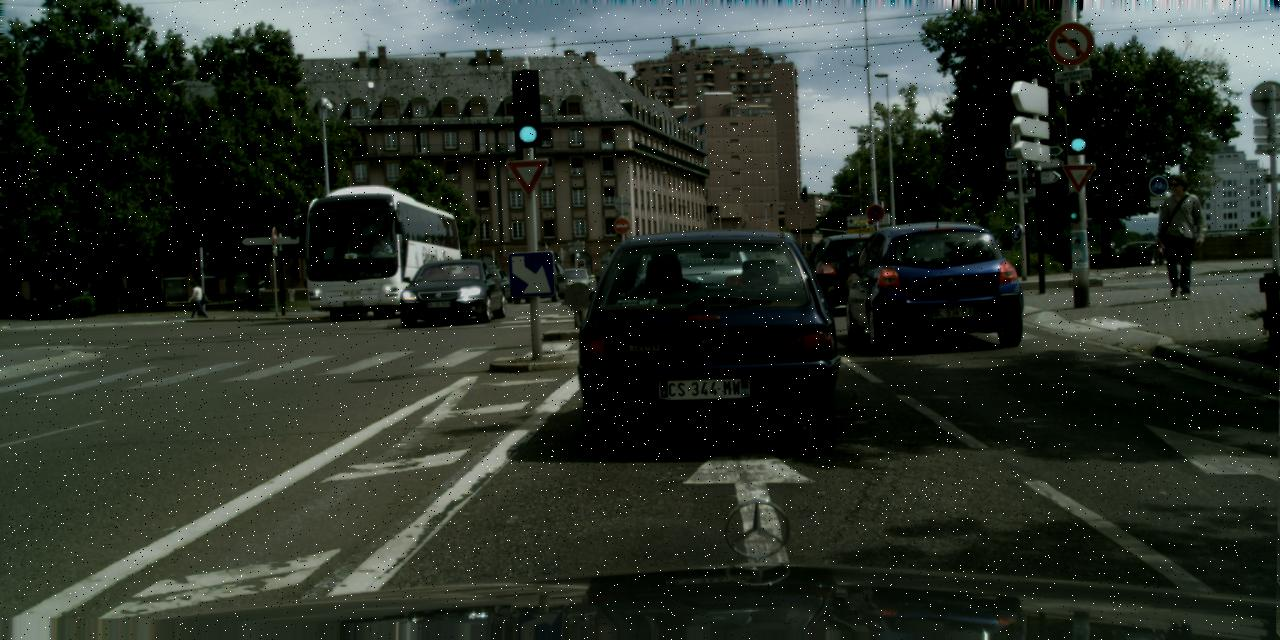ped: (1154, 174, 1204, 299), (188, 281, 203, 318)
